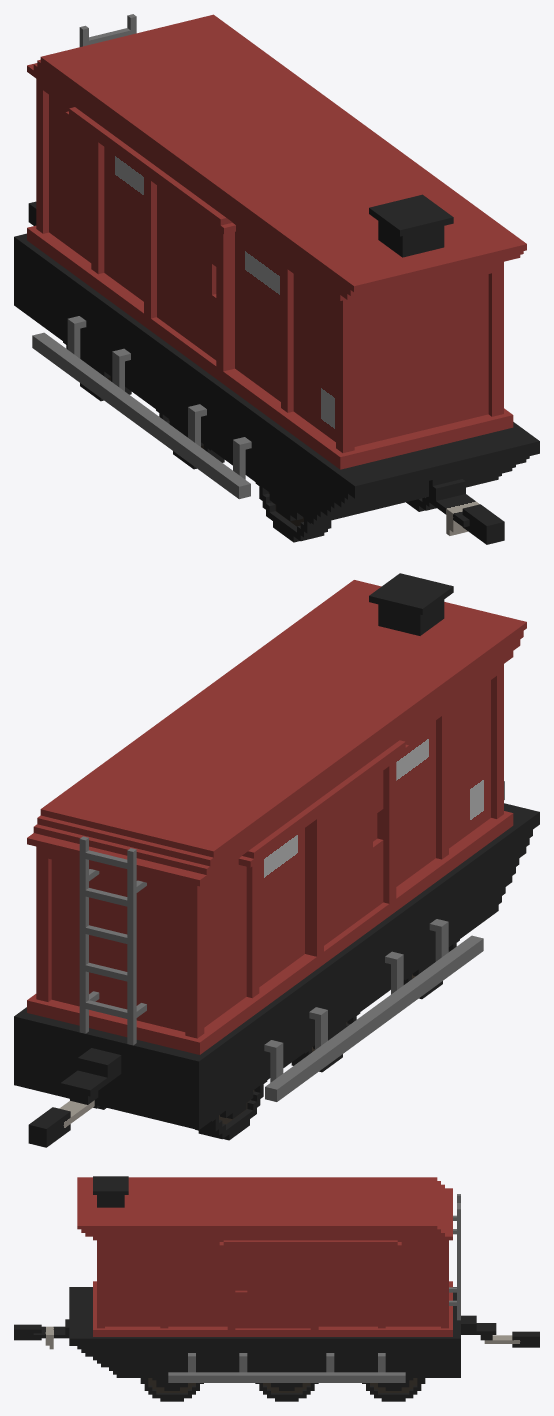
File: train_part_3.fbx
3 renders of one model, top to bottom at view 1: azimuth 30°, elevation 25°; view 2: azimuth 150°, elevation 25°; view 3: azimuth 270°, elevation 25°, orthographic. The views are drawn at different scales.
Visible parts, largest first — view 1: train_part_03.train_part_03; view 2: train_part_03.train_part_03; view 3: train_part_03.train_part_03.
Part boxes in pixels (x1,y1,x2,y2): train_part_03.train_part_03: (14,14,539,544); train_part_03.train_part_03: (14,573,539,1147); train_part_03.train_part_03: (14,1176,539,1401).
Bounding box in the file's own units: 4.1 × 5.5 × 13.3.
Materials: 1 (1 with a texture image).
